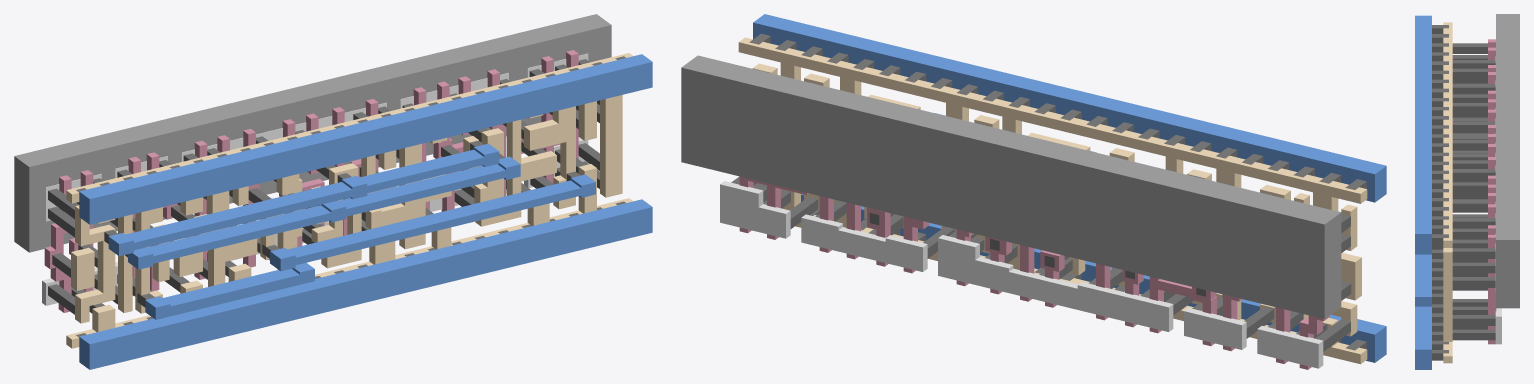
The model's file is sky130_fd_sc_hd__edfxtp_1.gds.gltf.
3 renders of one model, left to right at view 1: azimuth 30°, elevation 25°; view 2: azimuth 150°, elevation 25°; view 3: azimuth 270°, elevation 25°, orthographic. The views are drawn at different scales.
Visible parts, largest first — view 1: sky130_fd_sc_hd__edfxtp_1_met1, sky130_fd_sc_hd__edfxtp_1_li1, sky130_fd_sc_hd__edfxtp_1_nwell, sky130_fd_sc_hd__edfxtp_1_poly, sky130_fd_sc_hd__edfxtp_1_licon, sky130_fd_sc_hd__edfxtp_1_diff, sky130_fd_sc_hd__edfxtp_1_mcon; view 2: sky130_fd_sc_hd__edfxtp_1_nwell, sky130_fd_sc_hd__edfxtp_1_met1, sky130_fd_sc_hd__edfxtp_1_li1, sky130_fd_sc_hd__edfxtp_1_diff, sky130_fd_sc_hd__edfxtp_1_poly, sky130_fd_sc_hd__edfxtp_1_licon, sky130_fd_sc_hd__edfxtp_1_mcon; view 3: sky130_fd_sc_hd__edfxtp_1_licon, sky130_fd_sc_hd__edfxtp_1_nwell, sky130_fd_sc_hd__edfxtp_1_met1, sky130_fd_sc_hd__edfxtp_1_mcon, sky130_fd_sc_hd__edfxtp_1_li1, sky130_fd_sc_hd__edfxtp_1_poly, sky130_fd_sc_hd__edfxtp_1_diff.
Part boxes in pixels (x1,y1,x2,y2): sky130_fd_sc_hd__edfxtp_1_met1: (79, 54, 652, 369); sky130_fd_sc_hd__edfxtp_1_li1: (66, 53, 633, 348); sky130_fd_sc_hd__edfxtp_1_nwell: (14, 14, 611, 252); sky130_fd_sc_hd__edfxtp_1_poly: (44, 50, 578, 312); sky130_fd_sc_hd__edfxtp_1_licon: (48, 59, 599, 314); sky130_fd_sc_hd__edfxtp_1_diff: (42, 53, 588, 305); sky130_fd_sc_hd__edfxtp_1_mcon: (76, 56, 625, 337); sky130_fd_sc_hd__edfxtp_1_nwell: (681, 55, 1341, 318); sky130_fd_sc_hd__edfxtp_1_met1: (753, 14, 1386, 362); sky130_fd_sc_hd__edfxtp_1_li1: (738, 37, 1367, 364); sky130_fd_sc_hd__edfxtp_1_diff: (720, 181, 1323, 368); sky130_fd_sc_hd__edfxtp_1_poly: (739, 176, 1329, 369); sky130_fd_sc_hd__edfxtp_1_licon: (731, 81, 1351, 351); sky130_fd_sc_hd__edfxtp_1_mcon: (749, 33, 1366, 350); sky130_fd_sc_hd__edfxtp_1_licon: (1452, 43, 1495, 340); sky130_fd_sc_hd__edfxtp_1_nwell: (1496, 14, 1519, 308); sky130_fd_sc_hd__edfxtp_1_met1: (1415, 15, 1431, 369); sky130_fd_sc_hd__edfxtp_1_mcon: (1432, 25, 1448, 360); sky130_fd_sc_hd__edfxtp_1_li1: (1443, 22, 1452, 363); sky130_fd_sc_hd__edfxtp_1_poly: (1488, 39, 1496, 344); sky130_fd_sc_hd__edfxtp_1_diff: (1495, 56, 1501, 344).
Size of the model in its own units: 11.42 by 3.2 by 2.24.
